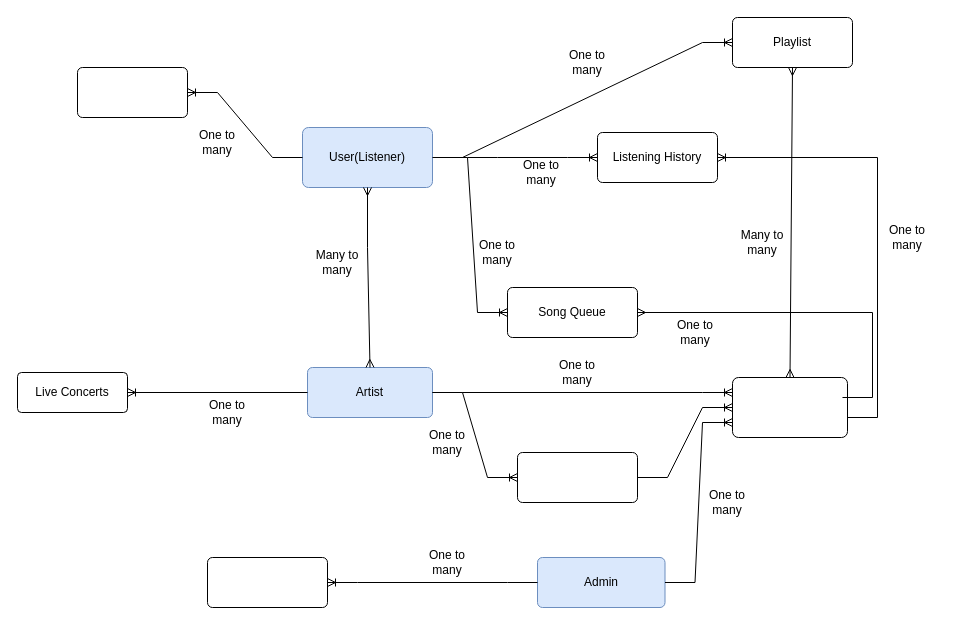
Image size: 955x625. Some labels were removed from this diagram. Here are the shapes that lost their labels. From the top down, the centre of each, then its label:
pixel 132 92: Notifications
pixel 790 407: Song
pixel 577 477: Album
pixel 267 582: Analytics Report
